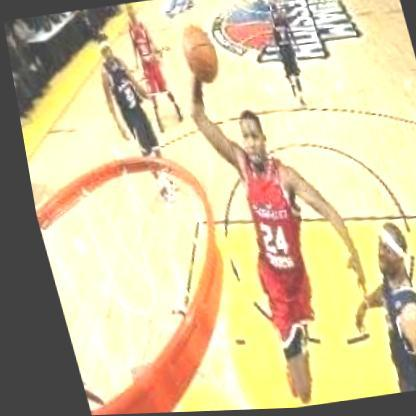basketball: (169, 19, 224, 84)
